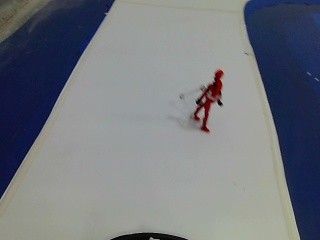pedestrian: (192, 67, 226, 136)
